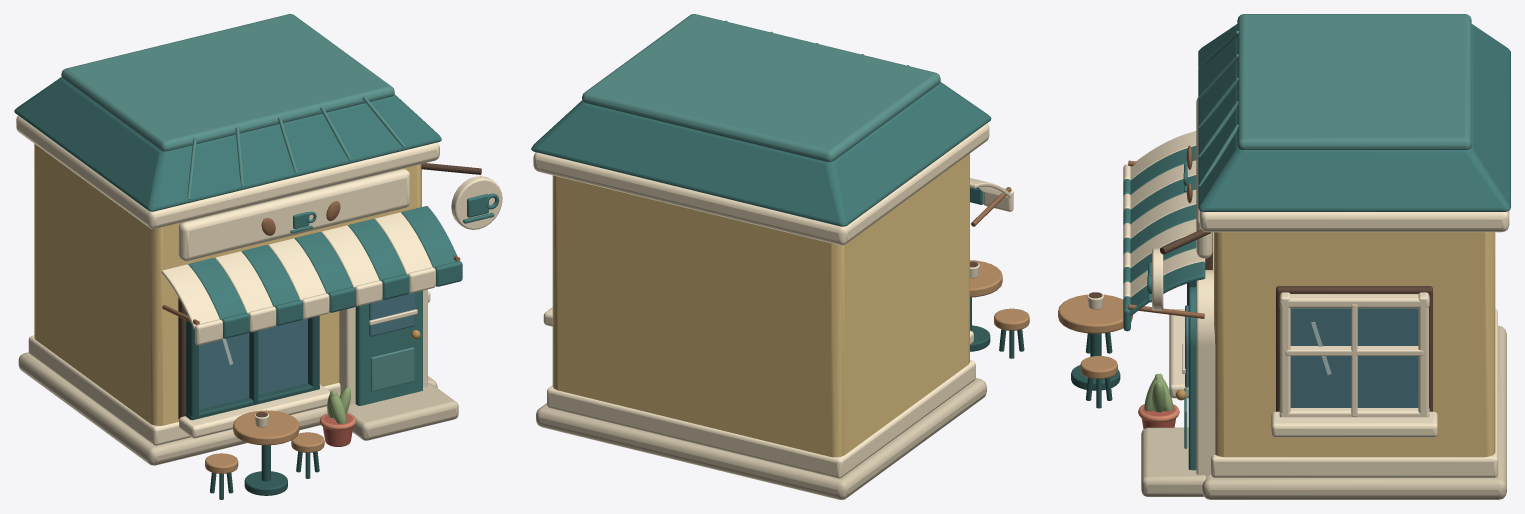
File: cafe_level_2_before.glb
The picture shows the model from 3 angles, left to right: view 1: azimuth 30°, elevation 25°; view 2: azimuth 150°, elevation 25°; view 3: azimuth 270°, elevation 25°; orthographic projection. The views are drawn at different scales.
Parts seen in each view (by area): view 1: Wall • butter plaster.001, Roof • rounded crown.001, Roof • soft hipped shell.001, Fascia • plain cream band, Roof • cream cornice.001, Window • blue glazing.002, Foundation • stone plinth.001, Door • teal panel.001, Door • step.001, Wall • cream skirting.001, Window • deep sill.002, Door • cream arch.001 (+33 smaller); view 2: Wall • butter plaster.001, Roof • rounded crown.001, Roof • soft hipped shell.001, Foundation • stone plinth.001, Wall • cream skirting.001, Roof • cream cornice.001, Terrace • round tabletop, Terrace • stool seat; view 3: Wall • butter plaster.001, Roof • rounded crown.001, Roof • soft hipped shell.001, Window • blue glazing.003, Foundation • stone plinth.001, Wall • cream skirting.001, Roof • cream cornice.001, Door • cream arch.001, Door • step.001, Window • deep sill.003, Window • shadow recess.003, Terrace • round tabletop (+22 smaller).
Boxes of the visible parts, x1,y1,x2,y2 form: Wall • butter plaster.001: (34, 144, 421, 425); Roof • rounded crown.001: (61, 14, 394, 151); Roof • soft hipped shell.001: (14, 77, 441, 211); Fascia • plain cream band: (178, 169, 410, 261); Roof • cream cornice.001: (16, 115, 439, 228); Window • blue glazing.002: (199, 318, 307, 409); Foundation • stone plinth.001: (18, 352, 437, 465); Door • teal panel.001: (355, 290, 422, 405); Door • step.001: (347, 383, 458, 440); Wall • cream skirting.001: (28, 335, 340, 445); Window • deep sill.002: (179, 384, 330, 438); Door • cream arch.001: (339, 289, 427, 405); Wall • butter plaster.001: (552, 153, 969, 457); Roof • rounded crown.001: (582, 14, 940, 161); Roof • soft hipped shell.001: (531, 82, 991, 226); Foundation • stone plinth.001: (536, 378, 986, 499); Wall • cream skirting.001: (547, 360, 975, 478); Roof • cream cornice.001: (533, 123, 989, 245); Terrace • round tabletop: (970, 260, 1002, 297); Terrace • stool seat: (994, 308, 1029, 330); Wall • butter plaster.001: (1214, 232, 1495, 457); Roof • rounded crown.001: (1237, 14, 1471, 149); Roof • soft hipped shell.001: (1198, 24, 1510, 211); Window • blue glazing.003: (1290, 308, 1418, 407); Foundation • stone plinth.001: (1202, 325, 1506, 499); Wall • cream skirting.001: (1211, 309, 1497, 477); Roof • cream cornice.001: (1200, 211, 1509, 232); Door • cream arch.001: (1196, 270, 1215, 475); Door • step.001: (1141, 427, 1206, 496); Window • deep sill.003: (1271, 411, 1437, 437); Window • shadow recess.003: (1276, 286, 1432, 411); Terrace • round tabletop: (1058, 294, 1132, 333).
Bounding box in the file's own units: 3.7 × 3.27 × 3.86.
